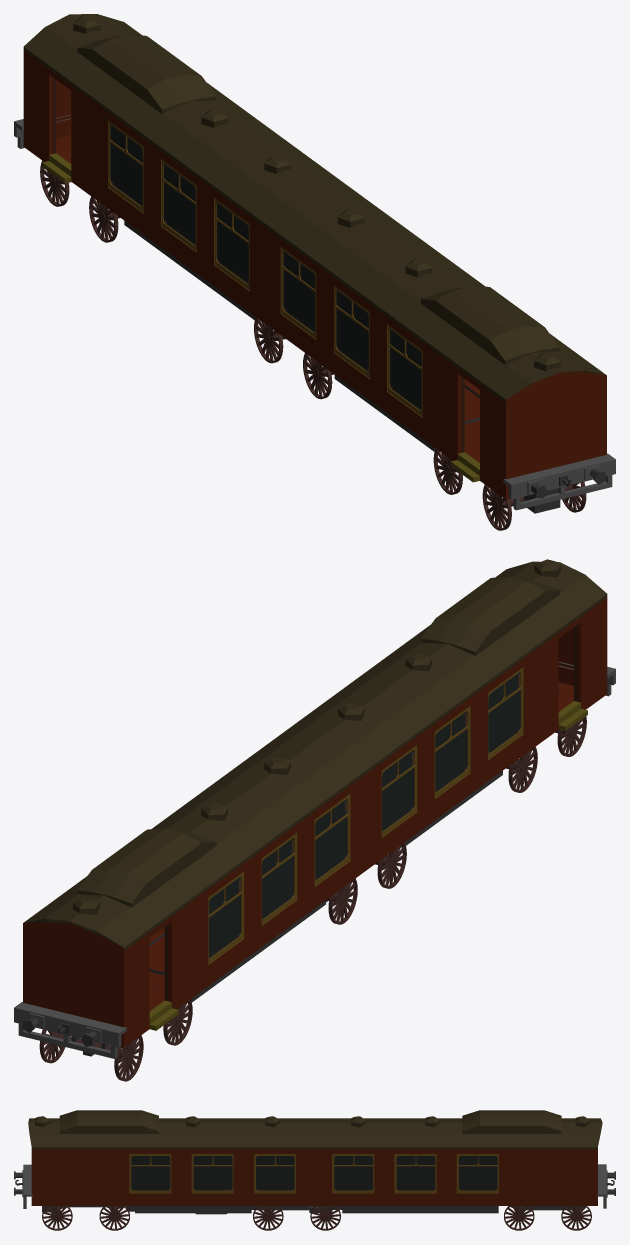
Rendered from Train-PassengerOutside.fbx.
The picture shows the model from 3 angles, top to bottom: view 1: azimuth 30°, elevation 25°; view 2: azimuth 150°, elevation 25°; view 3: azimuth 270°, elevation 25°; orthographic projection. The views are drawn at different scales.
Parts seen in each view (by area): view 1: PassMainCar, PassWheelBack2.001, PassWheelFront2.001, PassWheelMiddle2.001, PassWheelMiddle1.001, PassWheelBack1.001, PassWheelFront1.001; view 2: PassMainCar, PassWheelFront1.001, PassWheelBack1.001, PassWheelMiddle1.001, PassWheelMiddle2.001, PassWheelFront2.001, PassWheelBack2.001; view 3: PassMainCar, PassWheelBack1.001, PassWheelBack2.001, PassWheelFront1.001, PassWheelFront2.001, PassWheelMiddle2.001, PassWheelMiddle1.001.
Part boxes in pixels (x1,y1,x2,y2): PassMainCar: (14, 14, 615, 513); PassWheelBack2.001: (482, 482, 586, 530); PassWheelFront2.001: (89, 196, 120, 242); PassWheelMiddle2.001: (303, 353, 334, 399); PassWheelMiddle1.001: (254, 317, 284, 363); PassWheelBack1.001: (433, 449, 462, 494); PassWheelFront1.001: (40, 160, 70, 206); PassMainCar: (14, 559, 615, 1058); PassWheelFront1.001: (39, 1029, 143, 1081); PassWheelBack1.001: (506, 747, 537, 792); PassWheelMiddle1.001: (326, 878, 357, 924); PassWheelMiddle2.001: (375, 842, 406, 888); PassWheelFront2.001: (163, 999, 192, 1045); PassWheelBack2.001: (555, 716, 586, 756); PassMainCar: (14, 1110, 615, 1214); PassWheelBack1.001: (99, 1206, 129, 1230); PassWheelBack2.001: (42, 1206, 72, 1230); PassWheelFront1.001: (561, 1206, 591, 1230); PassWheelFront2.001: (504, 1206, 534, 1230); PassWheelMiddle2.001: (253, 1206, 283, 1230); PassWheelMiddle1.001: (310, 1206, 340, 1230).
Size of the model in its own units: 401 by 625 by 3250.
